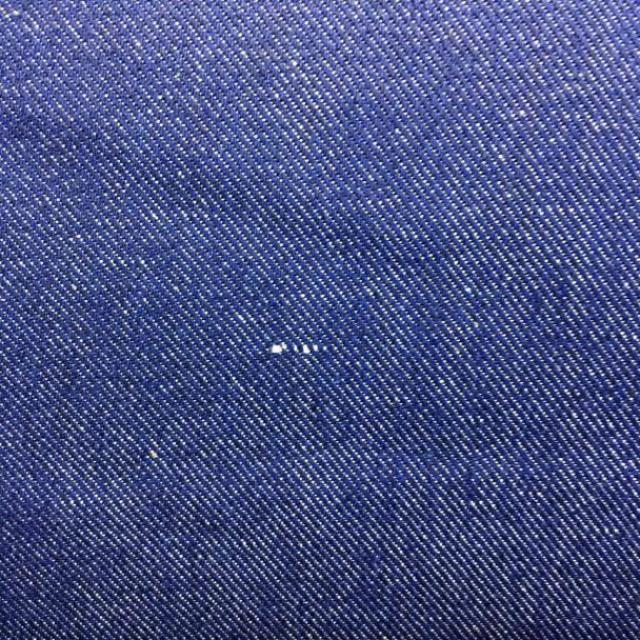Knot: (269, 342, 329, 356)
